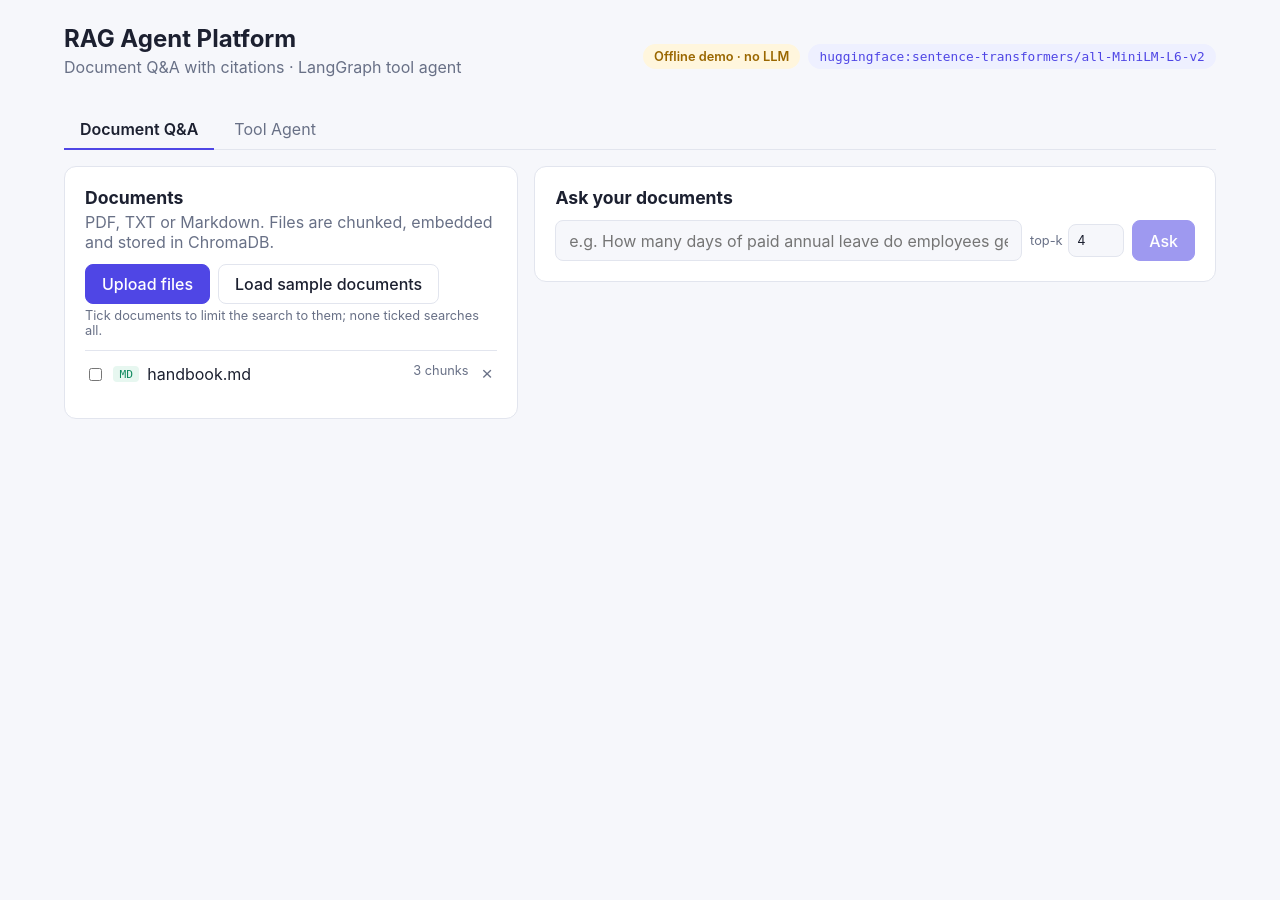
Test case: App › runs the agent and shows tool steps
The image size is (1280, 900).
Click the tab "Tool Agent" at (275, 130), box x1=218 y1=109 x2=332 y2=150
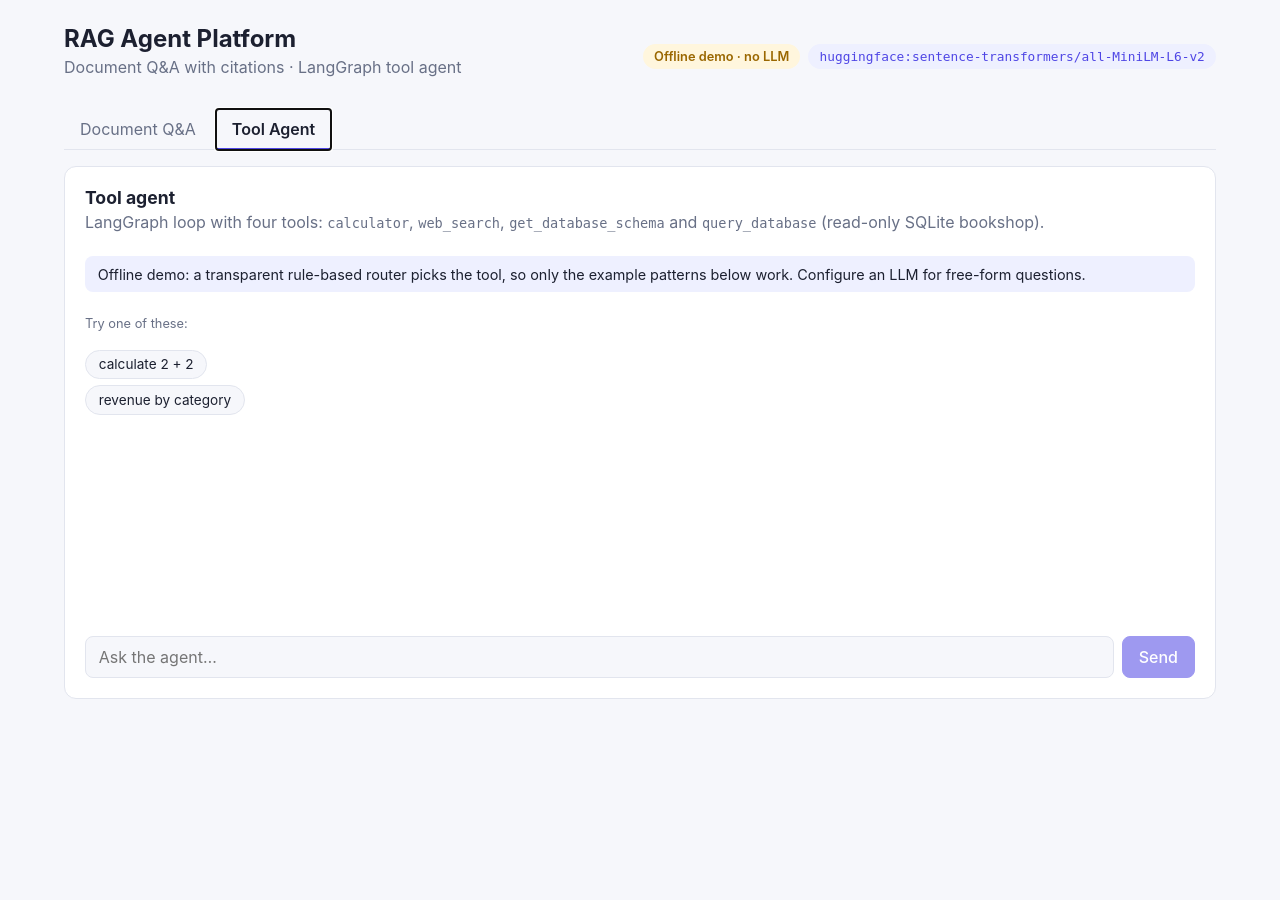
Click the button "calculate 2 + 2" at (146, 364), box x1=85 y1=350 x2=207 y2=379
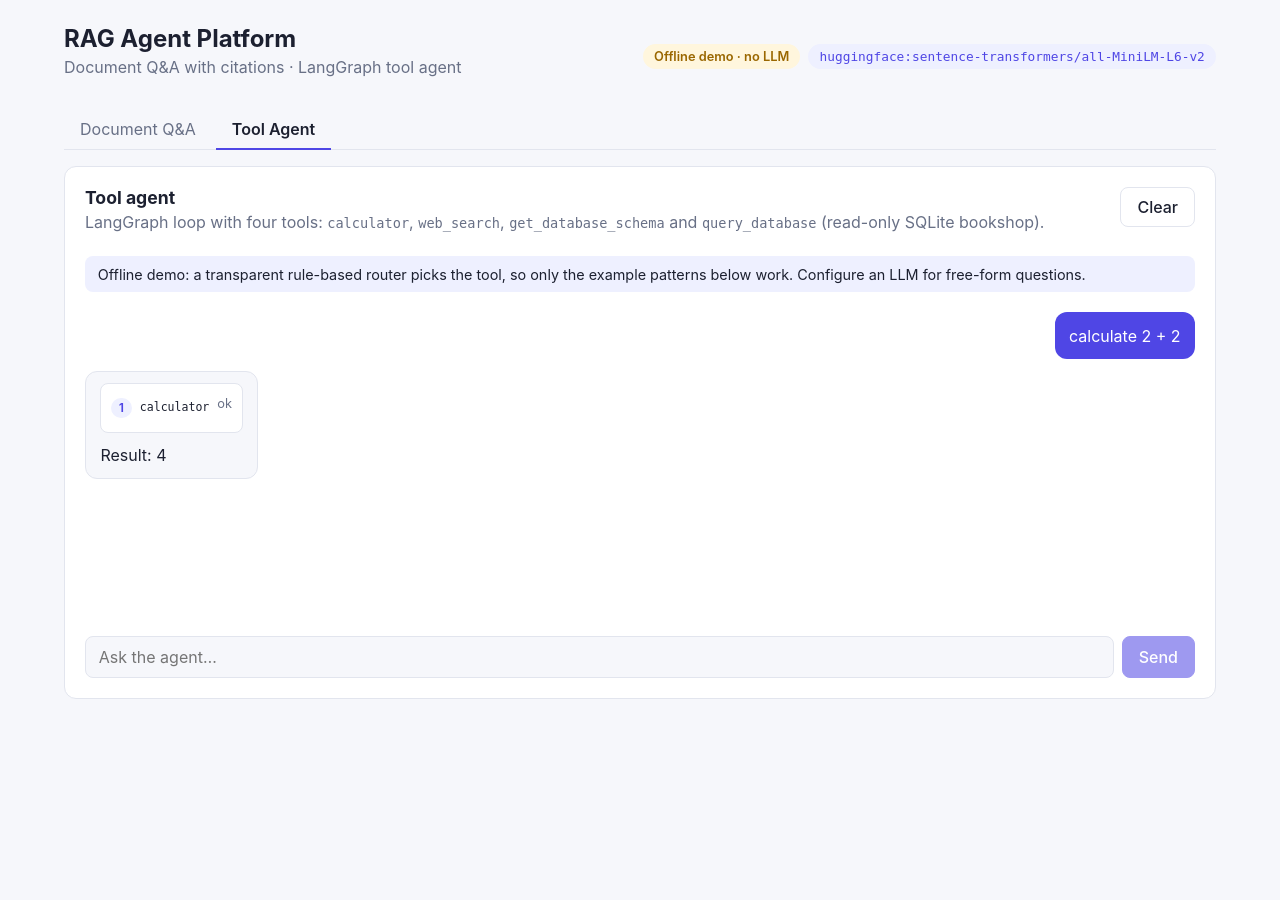
Check: the text "Result: 4" is shown, box x1=100 y1=444 x2=166 y2=464
Check: the 2nd text "calculator" is shown, box x1=140 y1=399 x2=209 y2=417
